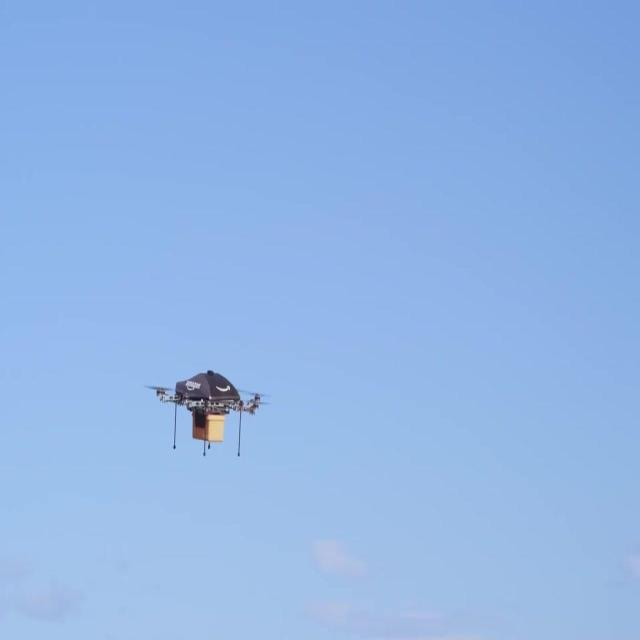drone: (142, 368, 274, 460)
